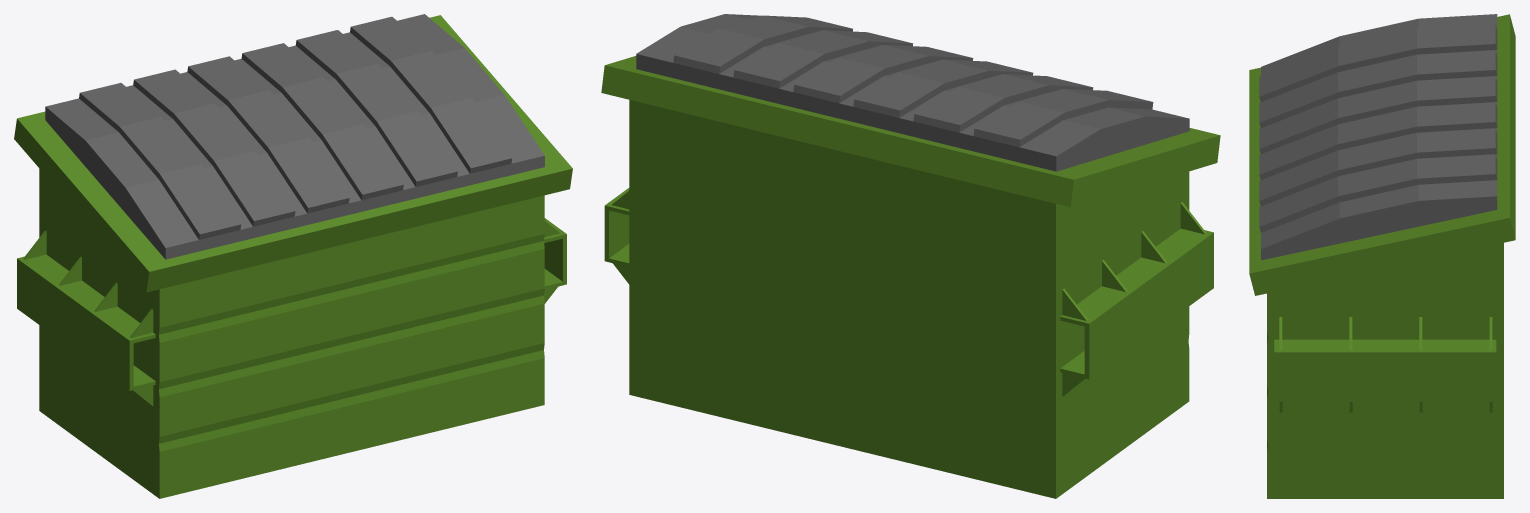
File: Dumpster.fbx
The picture shows the model from 3 angles, left to right: view 1: azimuth 30°, elevation 25°; view 2: azimuth 150°, elevation 25°; view 3: azimuth 270°, elevation 25°; orthographic projection. The views are drawn at different scales.
Visible parts, largest first — view 1: Dumpster; view 2: Dumpster; view 3: Dumpster.
Boxes of the visible parts, left/top/right/bottom form: Dumpster: left=14, top=14, right=572, bottom=498; Dumpster: left=601, top=14, right=1220, bottom=498; Dumpster: left=1249, top=14, right=1515, bottom=498.
Size of the model in its own units: 2.7 by 1.84 by 1.45.
